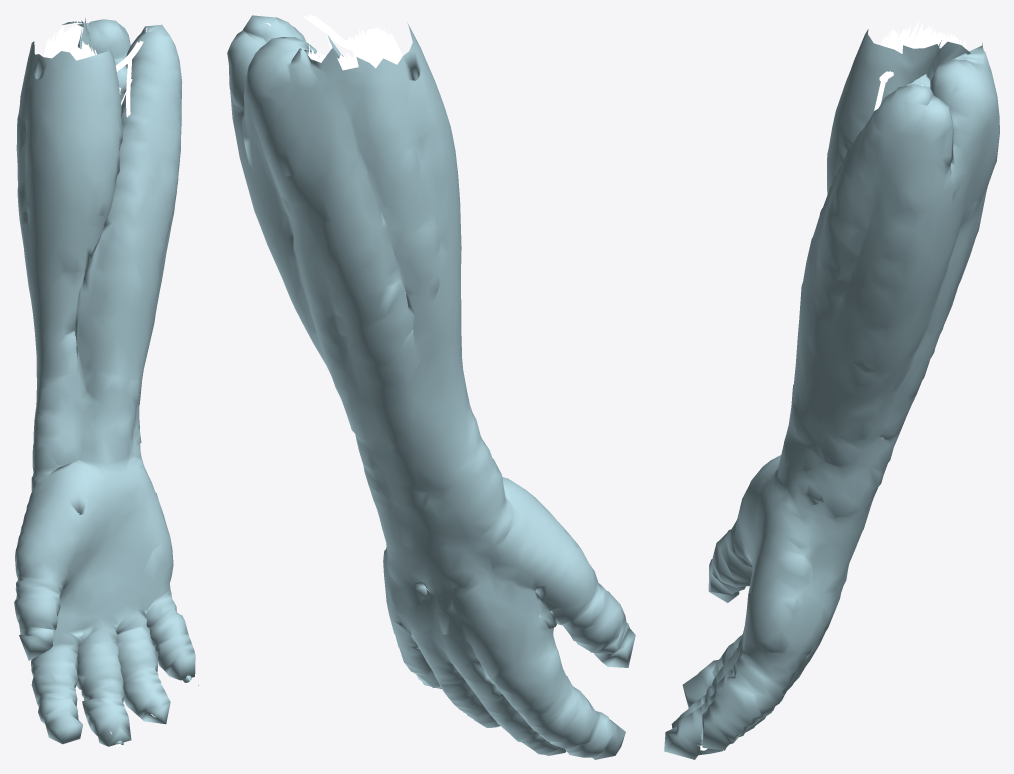
Rendered from forearm.glb.
3 views of the same model, side by side, from view 1: azimuth 30°, elevation 25°; view 2: azimuth 150°, elevation 25°; view 3: azimuth 270°, elevation 25° (orthographic). The views are drawn at different scales.
Visible parts, largest first — view 1: Skin envelope, Median cubital vein.r.001, Brachioradialis muscle.r; view 2: Skin envelope, Brachioradialis muscle.r; view 3: Skin envelope, Brachioradialis muscle.r.
Part boxes in pixels (x1,y1,x2,y2): Skin envelope: (14, 18, 198, 746); Median cubital vein.r.001: (116, 40, 143, 117); Brachioradialis muscle.r: (49, 40, 96, 60); Skin envelope: (227, 15, 635, 759); Brachioradialis muscle.r: (347, 27, 402, 64); Skin envelope: (664, 29, 999, 759); Brachioradialis muscle.r: (880, 21, 935, 53).
Bounding box in the file's own units: 0.1657 × 0.4352 × 0.1723.
